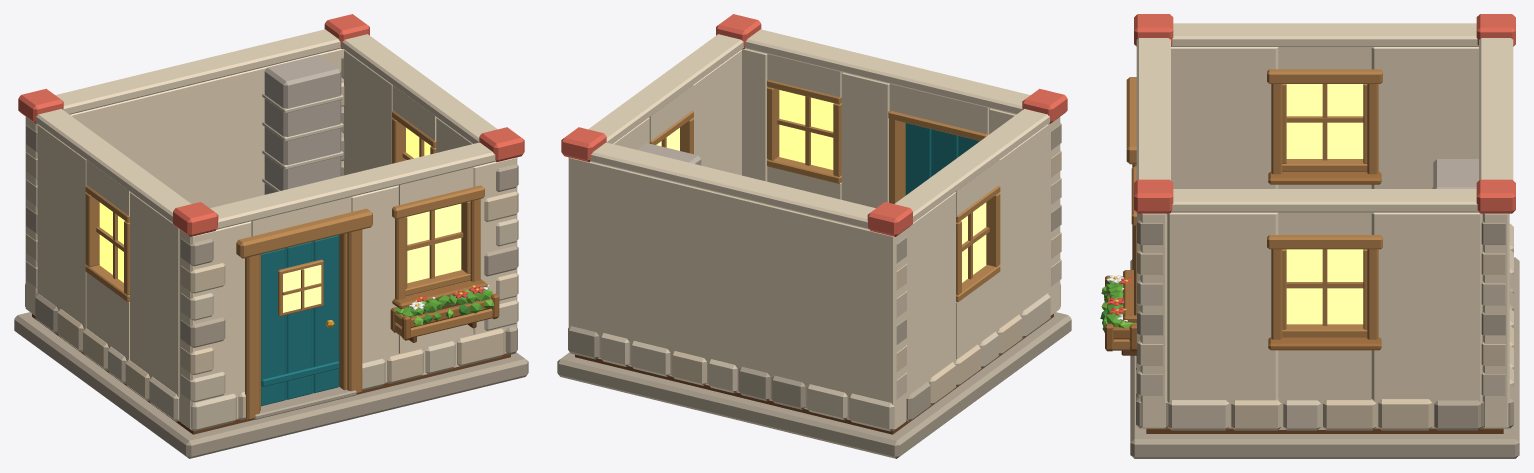
The model's file is cottage_interior_shell.glb.
3 views of the same model, side by side, from view 1: azimuth 30°, elevation 25°; view 2: azimuth 150°, elevation 25°; view 3: azimuth 270°, elevation 25° (orthographic). The views are drawn at different scales.
Parts seen in each view (by area): view 1: cottage_interior_shell, cottage_interior_shell_cutaway, part_door_leaf; view 2: cottage_interior_shell, cottage_interior_shell_cutaway, part_door_leaf; view 3: cottage_interior_shell_cutaway, cottage_interior_shell.
Boxes of the visible parts, left/top/right/bottom form: cottage_interior_shell: left=14, top=14, right=528, bottom=458; cottage_interior_shell_cutaway: left=179, top=34, right=524, bottom=431; part_door_leaf: left=261, top=235, right=339, bottom=406; cottage_interior_shell: left=557, top=88, right=1071, bottom=458; cottage_interior_shell_cutaway: left=588, top=14, right=1061, bottom=315; part_door_leaf: left=905, top=123, right=979, bottom=195; cottage_interior_shell_cutaway: left=1100, top=38, right=1482, bottom=430; cottage_interior_shell: left=1130, top=14, right=1519, bottom=458.
Bounding box in the file's own units: 3.62 × 2.37 × 3.4.
